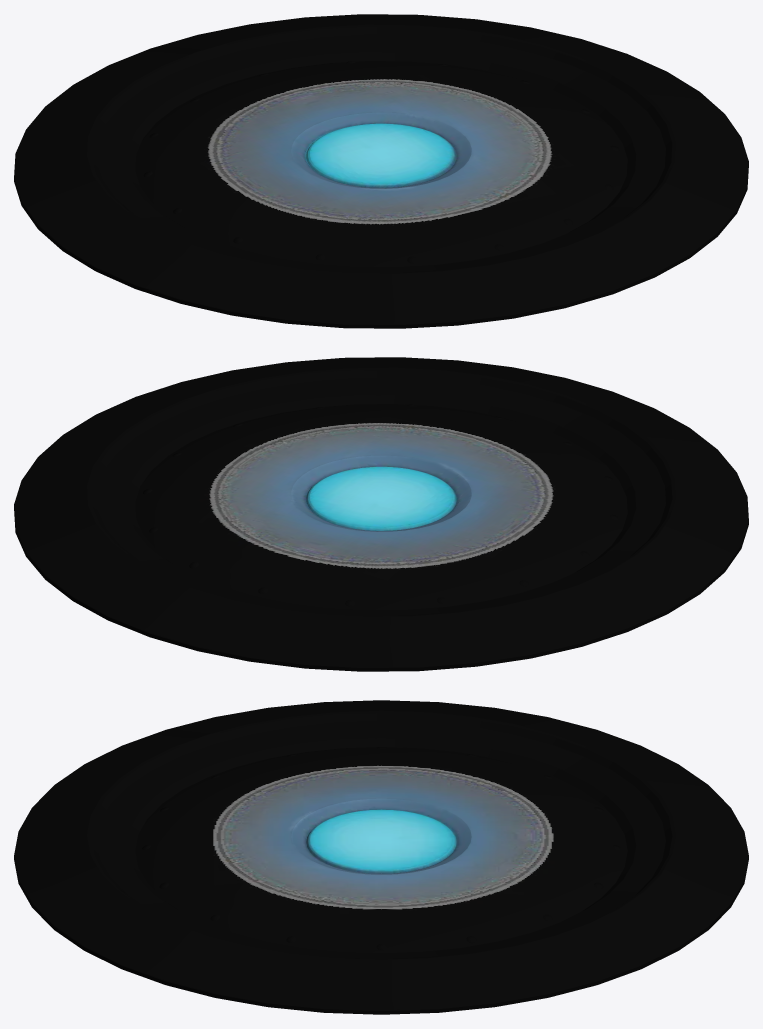
The picture shows the model from 3 angles, top to bottom: view 1: azimuth 30°, elevation 25°; view 2: azimuth 150°, elevation 25°; view 3: azimuth 270°, elevation 25°; orthographic projection.
Visible parts, largest first — view 1: body0_model0_lod0_mesh0; view 2: body0_model0_lod0_mesh0; view 3: body0_model0_lod0_mesh0.
Boxes of the visible parts, x1,y1,x2,y2 form: body0_model0_lod0_mesh0: (14,14,748,328); body0_model0_lod0_mesh0: (14,357,748,671); body0_model0_lod0_mesh0: (14,700,748,1014).
Size of the model in its own units: 203 by 7.38 by 203.
Materials: 1 (1 with a texture image).
